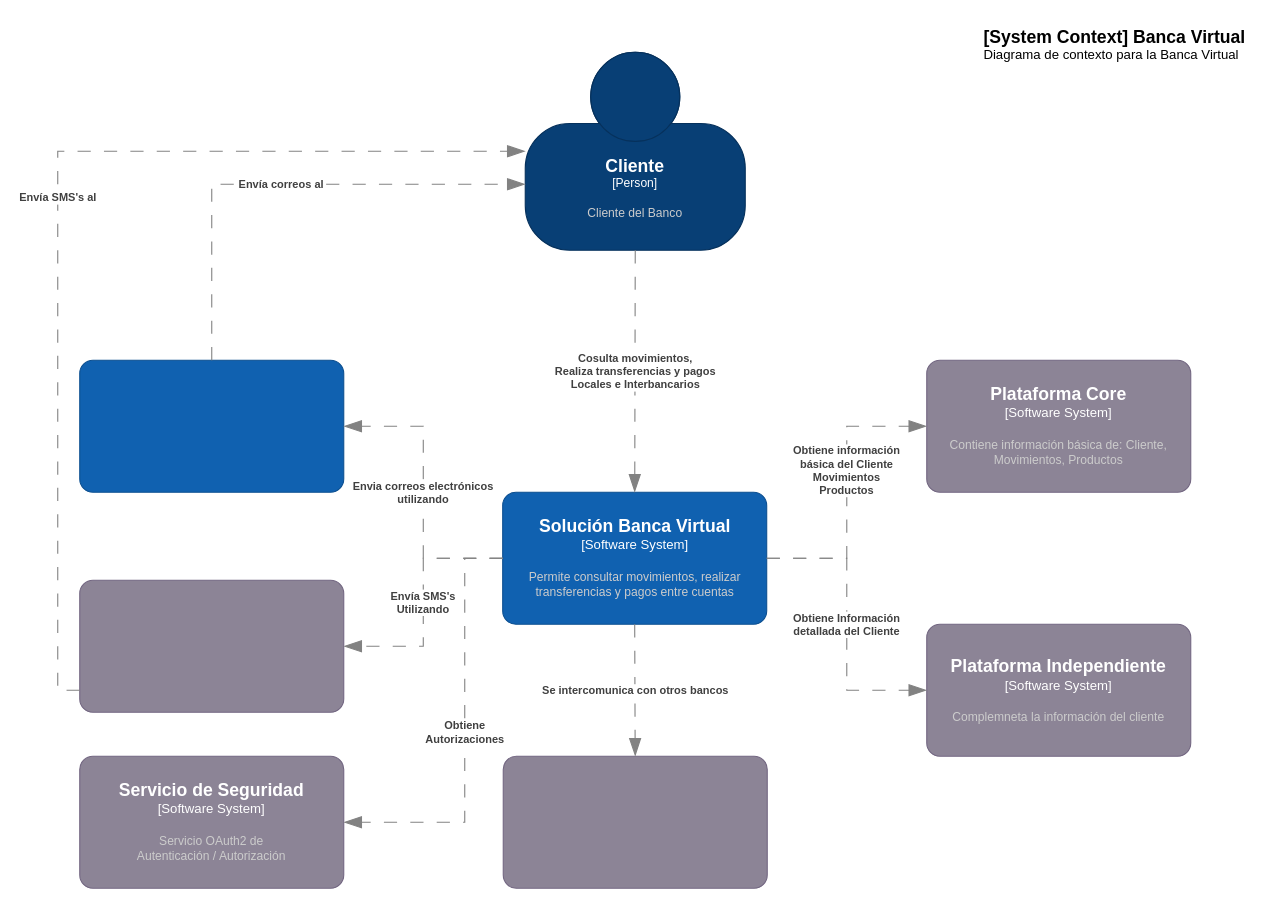
This 1286x908 diagram has some shape labels left out. The box of each missing label's shape, as (x1, y1, x2, y2) in pixels:
Servicio de eMail [Software System] Servicio de Correo Electrónico institucional: (79, 359, 344, 492)
Servicio de SMS [Software System] Servicio externo de Mensajería Celular: (79, 579, 344, 712)
Sistema Interbancario [Software System] Realiza las operaciones con otros Bancos: (502, 755, 767, 888)
